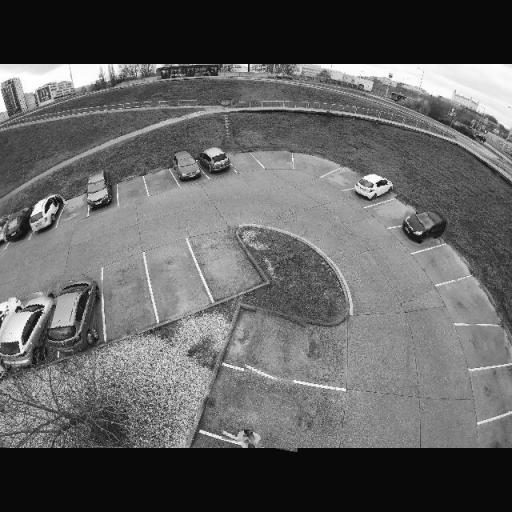busy: (39, 272, 102, 354), (0, 290, 53, 371), (402, 208, 446, 242), (353, 171, 396, 202), (82, 170, 116, 209), (28, 196, 63, 233), (169, 148, 204, 183), (198, 146, 236, 174), (0, 211, 30, 242)
free: (224, 390, 304, 450), (246, 312, 304, 382), (154, 265, 200, 300), (106, 280, 150, 316), (464, 324, 502, 362), (450, 286, 489, 322), (481, 373, 511, 413), (429, 248, 462, 280), (206, 252, 244, 278), (382, 204, 406, 222), (64, 199, 86, 217), (150, 175, 172, 190), (263, 153, 286, 167), (298, 160, 323, 172), (122, 182, 140, 197), (334, 174, 354, 186), (234, 158, 252, 168)
